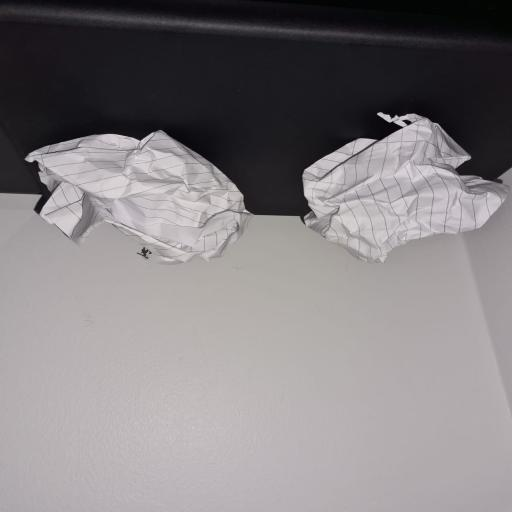Kertas: (303, 113, 509, 263), (26, 132, 252, 264)
